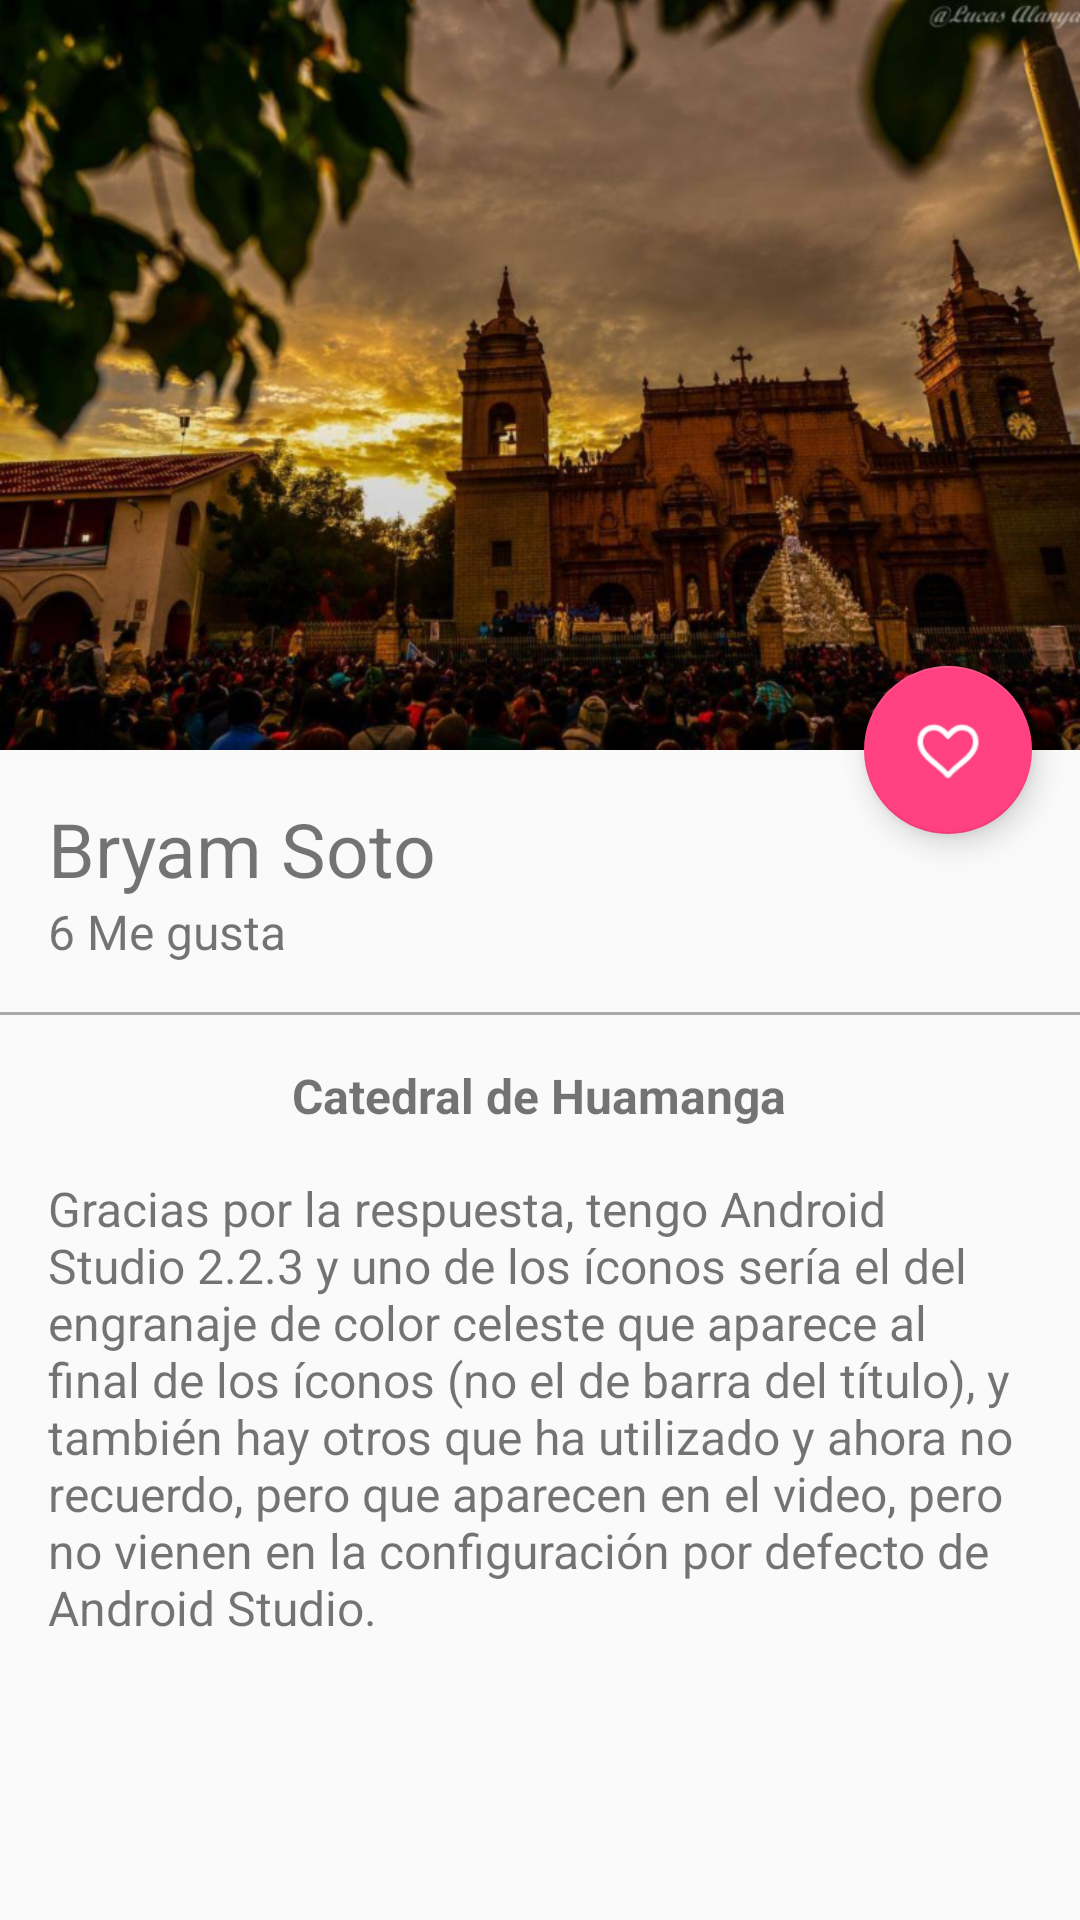

Where to tap for icons on this 1080 x 1920 app screen, as point (x, y):
heart: point (948, 750)
